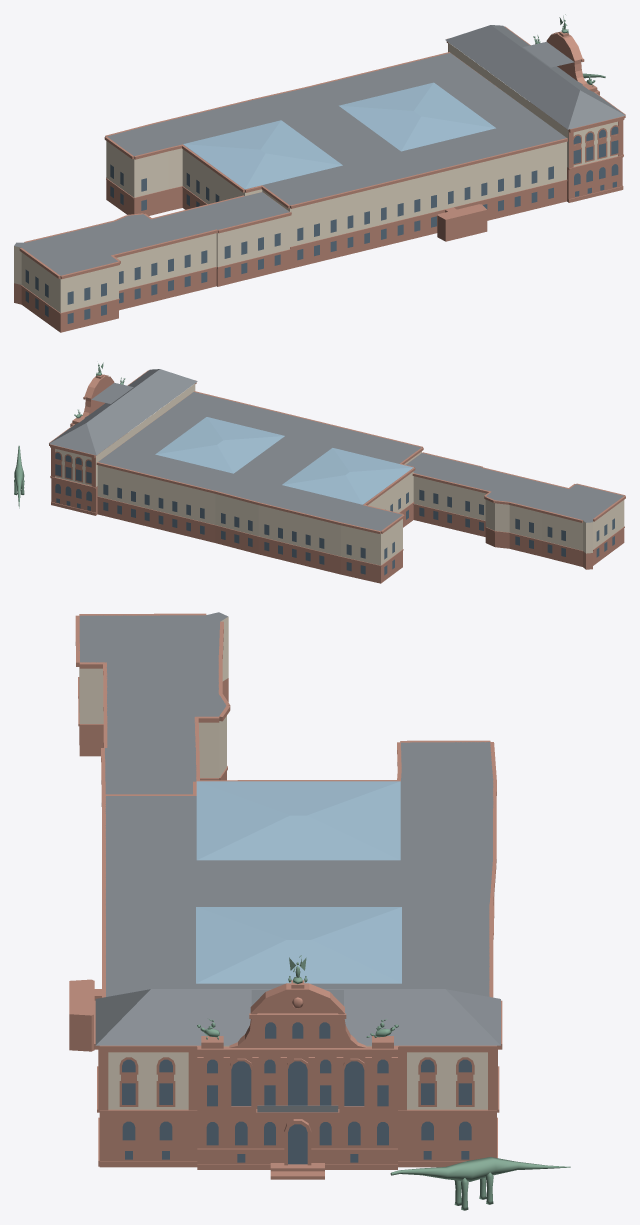
Rendered from frankfurt-senckenberg.glb.
3 renders of one model, top to bottom at view 1: azimuth 30°, elevation 25°; view 2: azimuth 150°, elevation 25°; view 3: azimuth 270°, elevation 25°, orthographic. The views are drawn at different scales.
Parts seen in each view (by area): view 1: Senckenberg Naturmuseum; view 2: Senckenberg Naturmuseum; view 3: Senckenberg Naturmuseum.
Boxes of the visible parts, x1,y1,x2,y2 form: Senckenberg Naturmuseum: [14, 14, 625, 332]; Senckenberg Naturmuseum: [14, 362, 625, 583]; Senckenberg Naturmuseum: [69, 612, 570, 1210].
Size of the model in its own units: 154 by 29.7 by 62.98.
